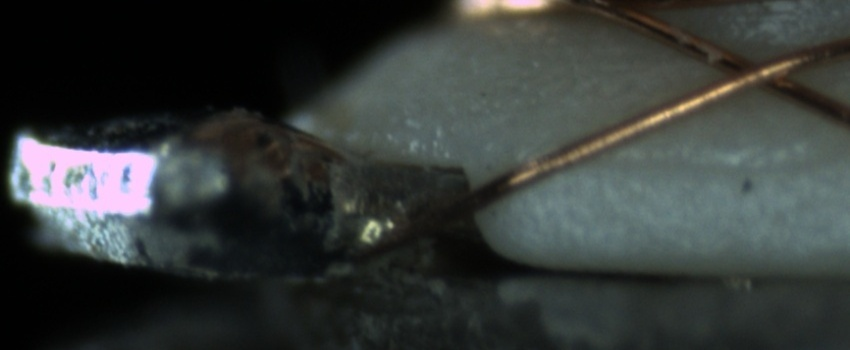CL: (694, 43, 817, 101)
DL: (562, 131, 839, 197)
